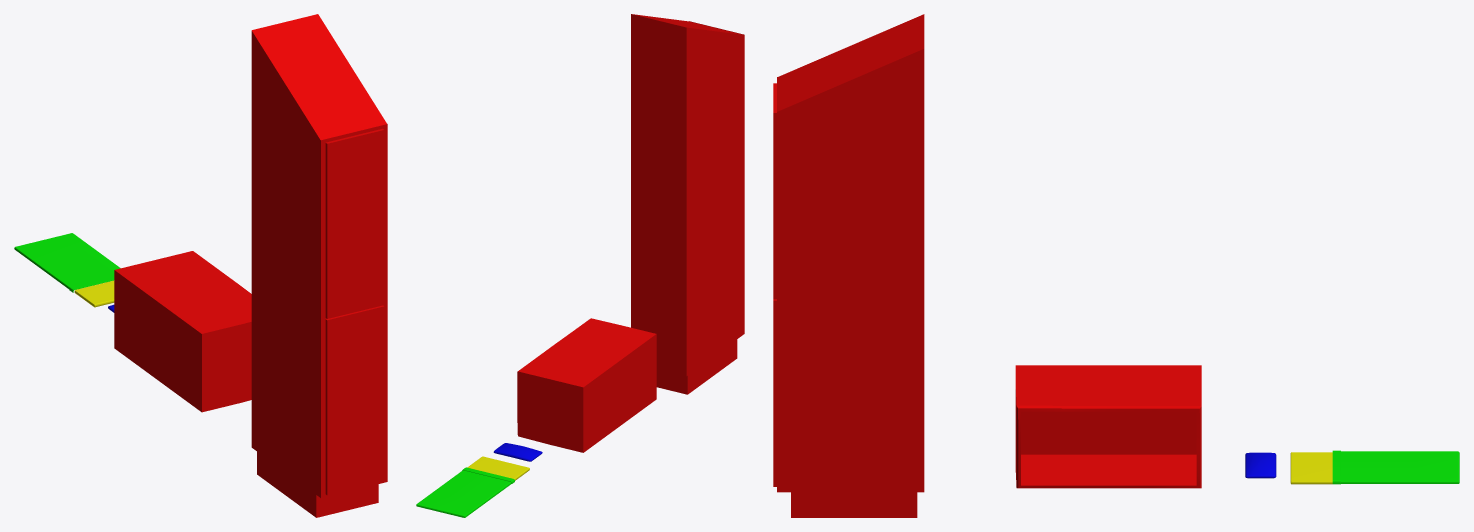
The model's file is Atlas_01_SM_ID.fbx.
The picture shows the model from 3 angles, left to right: view 1: azimuth 30°, elevation 25°; view 2: azimuth 150°, elevation 25°; view 3: azimuth 270°, elevation 25°; orthographic projection. The views are drawn at different scales.
Parts seen in each view (by area): view 1: BarracksLockers:pCube3, pasted__bed_shell, BarracksLockers:Top2, BarracksLockers:SmallPannel_Mocup4, BarracksLockers:SmallPannel4, pasted__bed_blanket, BarracksLockers:LockerBase2, pasted__bed_mattress; view 2: BarracksLockers:pCube3, pasted__bed_shell, BarracksLockers:Top2, pasted__bed_blanket, BarracksLockers:LockerBase2, pasted__bed_mattress, pasted__bed_pillow; view 3: BarracksLockers:pCube3, pasted__bed_shell, BarracksLockers:Top2, pasted__bed_blanket, BarracksLockers:LockerBase2, pasted__bed_mattress, BarracksLockers:SmallPannel_Mocup4, pasted__bed_pillow.
Boxes of the visible parts, x1,y1,x2,y2 form: BarracksLockers:pCube3: [251, 90, 387, 497]; pasted__bed_shell: [114, 251, 251, 412]; BarracksLockers:Top2: [251, 14, 386, 140]; BarracksLockers:SmallPannel_Mocup4: [325, 128, 384, 318]; BarracksLockers:SmallPannel4: [325, 305, 384, 495]; pasted__bed_blanket: [14, 233, 120, 292]; BarracksLockers:LockerBase2: [257, 451, 378, 517]; pasted__bed_mattress: [74, 280, 114, 307]; BarracksLockers:pCube3: [631, 21, 744, 376]; pasted__bed_shell: [517, 318, 656, 452]; BarracksLockers:Top2: [631, 14, 743, 76]; pasted__bed_blanket: [416, 467, 514, 517]; BarracksLockers:LockerBase2: [656, 339, 737, 394]; pasted__bed_mattress: [467, 456, 529, 480]; pasted__bed_pillow: [493, 443, 542, 461]; BarracksLockers:pCube3: [777, 77, 924, 492]; pasted__bed_shell: [1015, 365, 1201, 488]; BarracksLockers:Top2: [777, 14, 924, 111]; pasted__bed_blanket: [1332, 450, 1459, 484]; BarracksLockers:LockerBase2: [791, 492, 917, 517]; pasted__bed_mattress: [1290, 452, 1332, 484]; BarracksLockers:SmallPannel_Mocup4: [773, 83, 776, 299]; pasted__bed_pillow: [1245, 452, 1276, 478].
Size of the model in its own units: 140 by 739 by 977.
